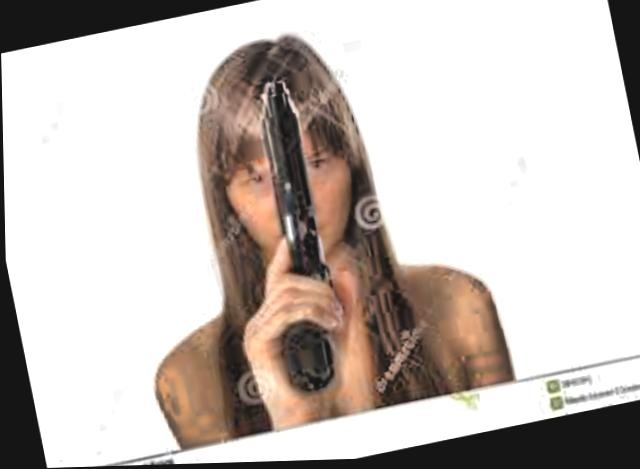pistol: (193, 64, 368, 412)
